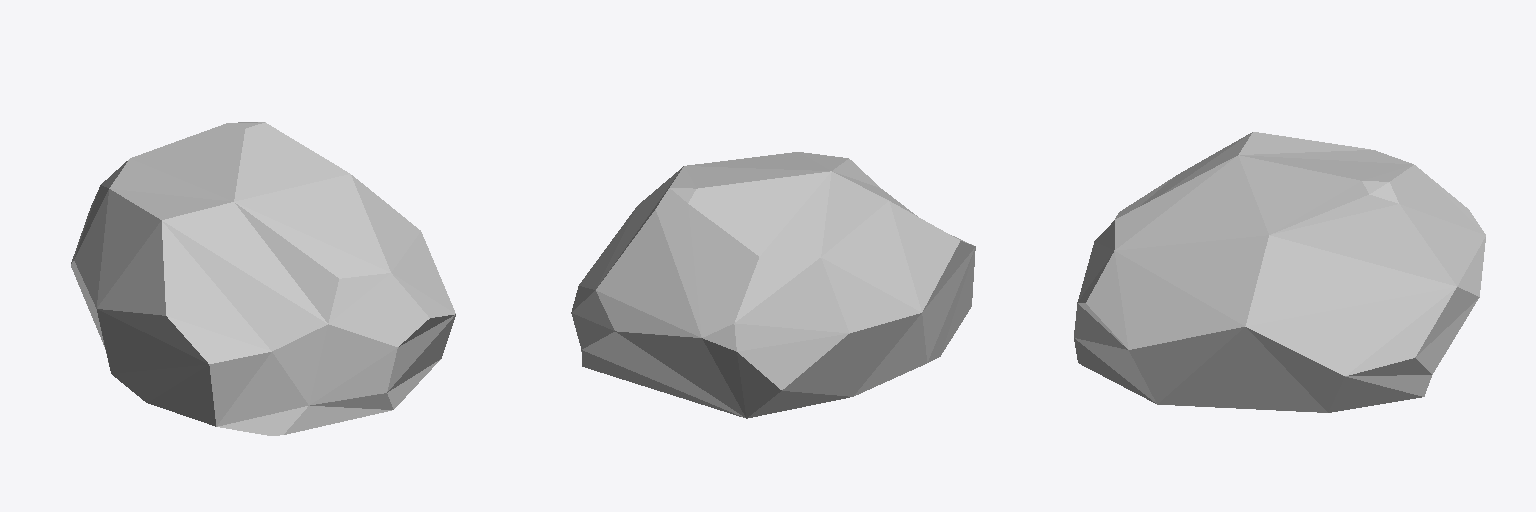
Rendered from Rock2.obj.
The picture shows the model from 3 angles: view 1: azimuth 30°, elevation 25°; view 2: azimuth 150°, elevation 25°; view 3: azimuth 270°, elevation 25°; orthographic projection.
Parts seen in each view (by area): view 1: MeshpartReggie1; view 2: MeshpartReggie1; view 3: MeshpartReggie1.
Boxes of the visible parts, x1,y1,x2,y2 form: MeshpartReggie1: [71, 122, 455, 435]; MeshpartReggie1: [571, 152, 975, 418]; MeshpartReggie1: [1074, 132, 1485, 412].
Size of the model in its own units: 8.87 by 4.86 by 10.1.